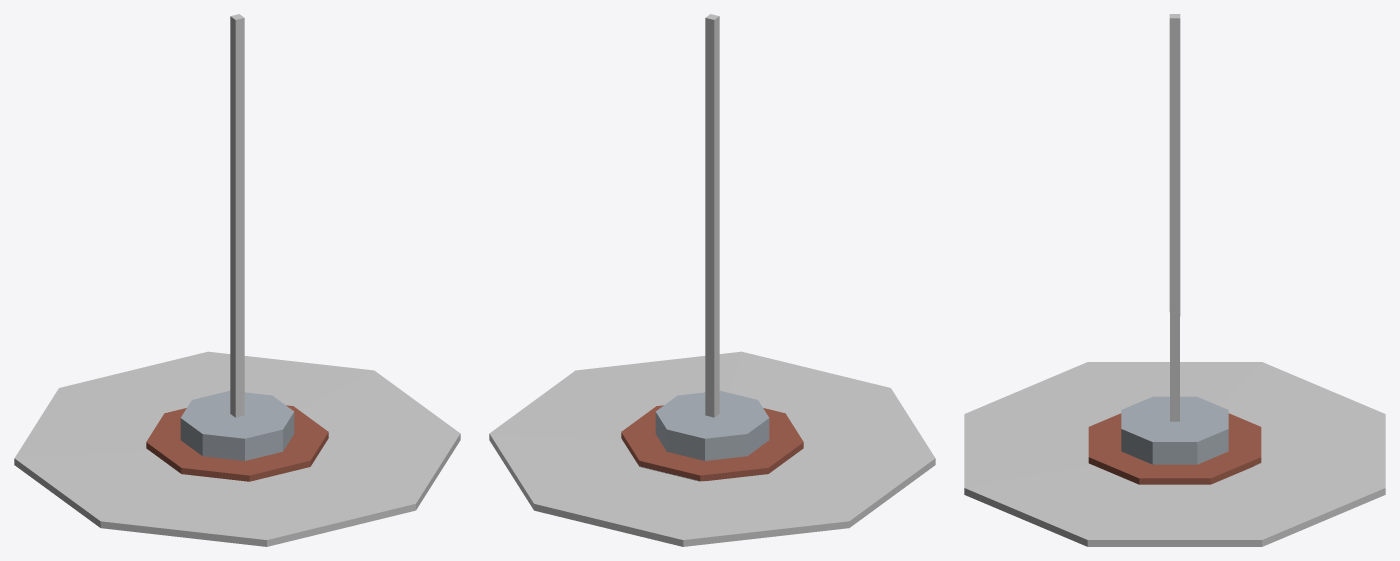
Rendered from flagpole.obj.
The picture shows the model from 3 angles, left to right: view 1: azimuth 30°, elevation 25°; view 2: azimuth 150°, elevation 25°; view 3: azimuth 270°, elevation 25°; orthographic projection.
Visible parts, largest first — view 1: Flagpole_Cylinder.002; view 2: Flagpole_Cylinder.002; view 3: Flagpole_Cylinder.002.
Part boxes in pixels (x1,y1,x2,y2): Flagpole_Cylinder.002: [14, 14, 460, 546]; Flagpole_Cylinder.002: [489, 14, 935, 546]; Flagpole_Cylinder.002: [964, 14, 1385, 546].
Bounding box in the file's own units: 17.66 × 20.43 × 17.66.
Materials: 1 (1 with a texture image).
